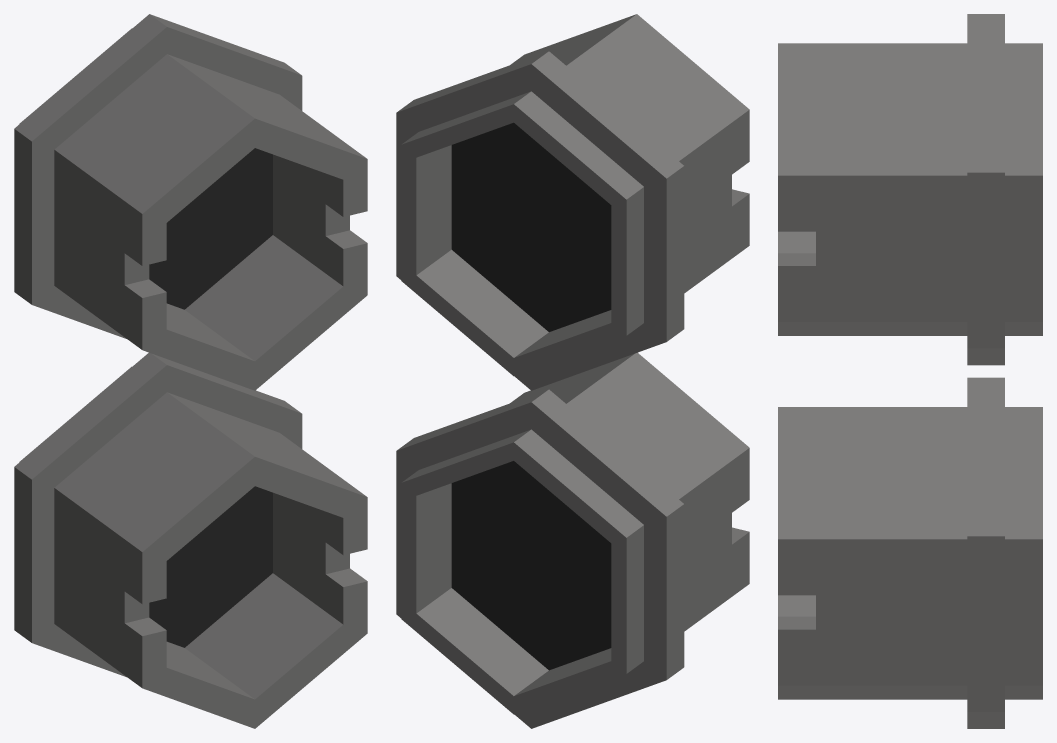
The model's file is Muzzle_ShotGun_Shoke_A_X2.fbx.
3 renders of one model, left to right at view 1: azimuth 30°, elevation 25°; view 2: azimuth 150°, elevation 25°; view 3: azimuth 270°, elevation 25°, orthographic. The views are drawn at different scales.
Visible parts, largest first — view 1: Muzzle_ShotGun_Shoke_A_X2; view 2: Muzzle_ShotGun_Shoke_A_X2; view 3: Muzzle_ShotGun_Shoke_A_X2.
Boxes of the visible parts, x1,y1,x2,y2 form: Muzzle_ShotGun_Shoke_A_X2: (14, 14, 367, 728); Muzzle_ShotGun_Shoke_A_X2: (396, 14, 749, 728); Muzzle_ShotGun_Shoke_A_X2: (778, 14, 1042, 728).
Bounding box in the file's own units: 0.0222 × 0.0521 × 0.0175.
